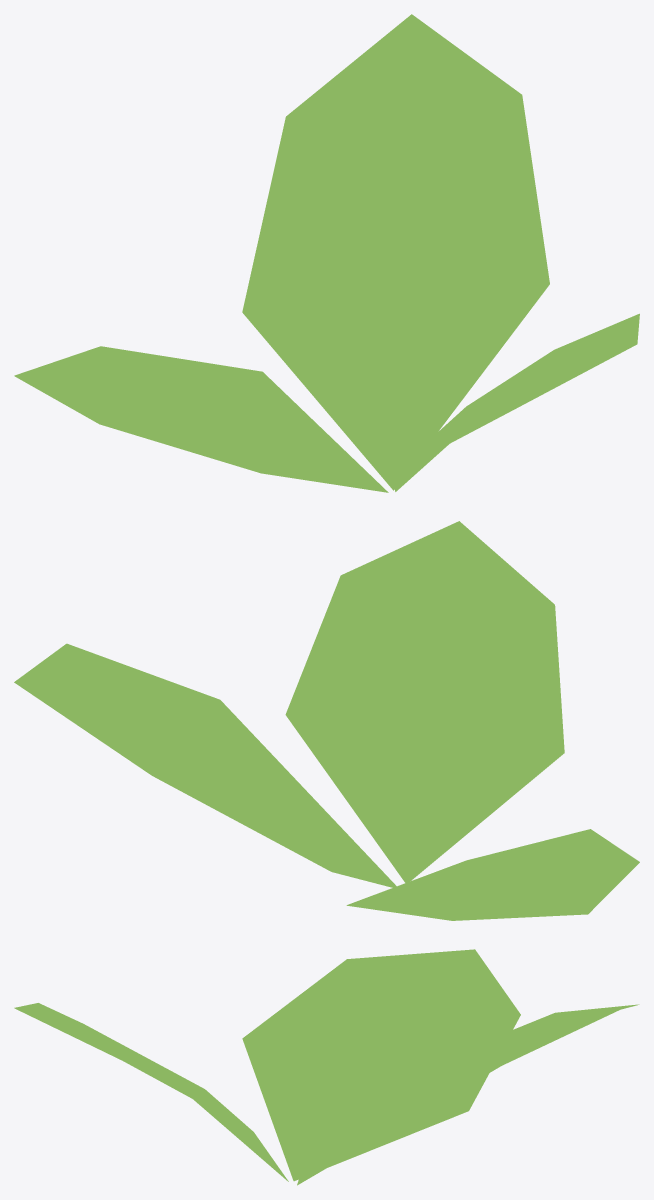
Rendered from Plant_h_TwoS_03.fbx.
3 views of the same model, one above another, from view 1: azimuth 30°, elevation 25°; view 2: azimuth 150°, elevation 25°; view 3: azimuth 270°, elevation 25° (orthographic). The views are drawn at different scales.
Parts seen in each view (by area): view 1: Plant_h_TwoS_03; view 2: Plant_h_TwoS_03; view 3: Plant_h_TwoS_03.
Part boxes in pixels (x1,y1,x2,y2): Plant_h_TwoS_03: (14, 14, 639, 492); Plant_h_TwoS_03: (14, 521, 639, 920); Plant_h_TwoS_03: (14, 949, 639, 1185).
Size of the model in its own units: 0.3551 by 0.1929 by 0.4006.
